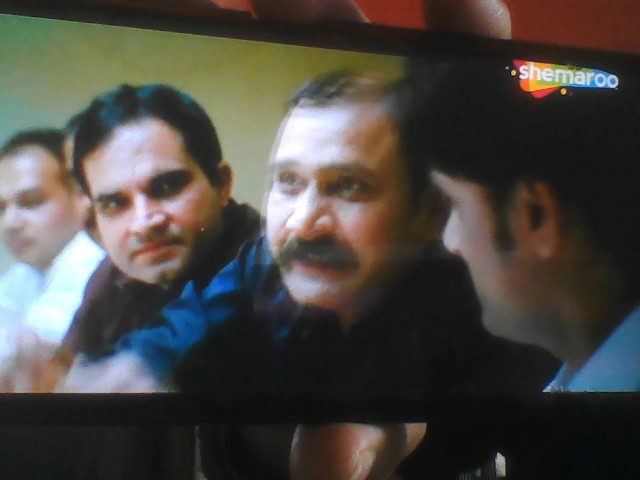fake: (242, 35, 441, 317), (84, 85, 231, 294)
